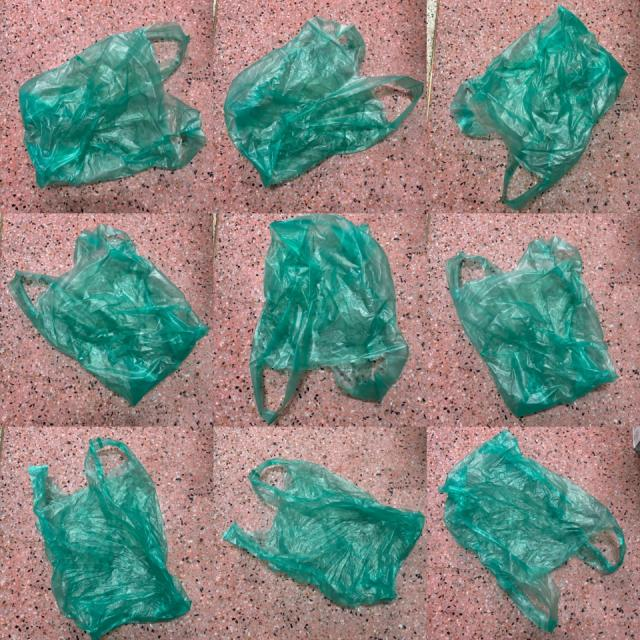Single-layer Plastic: (440, 430, 626, 631), (9, 225, 209, 405), (450, 6, 626, 209), (224, 18, 422, 186), (250, 214, 409, 423), (29, 439, 191, 640), (445, 236, 618, 416), (19, 22, 206, 188), (222, 459, 424, 606)
